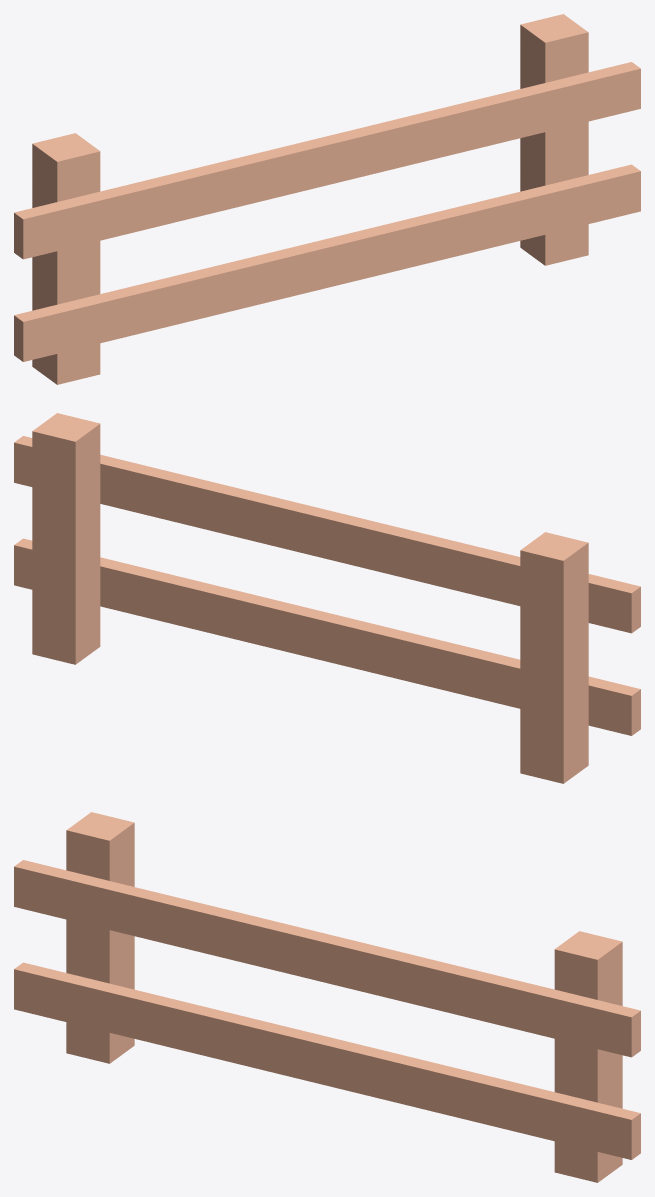
The model's file is fence_planks.gltf.
3 renders of one model, top to bottom at view 1: azimuth 30°, elevation 25°; view 2: azimuth 150°, elevation 25°; view 3: azimuth 330°, elevation 25°, orthographic.
Visible parts, largest first — view 1: fence_planks; view 2: fence_planks; view 3: fence_planks.
Boxes of the visible parts, <box> form: fence_planks: <box>14,14,640,384</box>; fence_planks: <box>14,413,640,783</box>; fence_planks: <box>14,812,640,1182</box>.
Size of the model in its own units: 1 by 0.345 by 0.0959.
